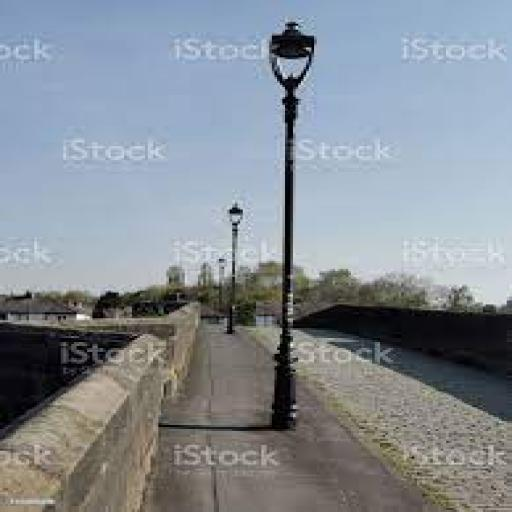Light-pole: (254, 20, 338, 420), (214, 186, 259, 352)
